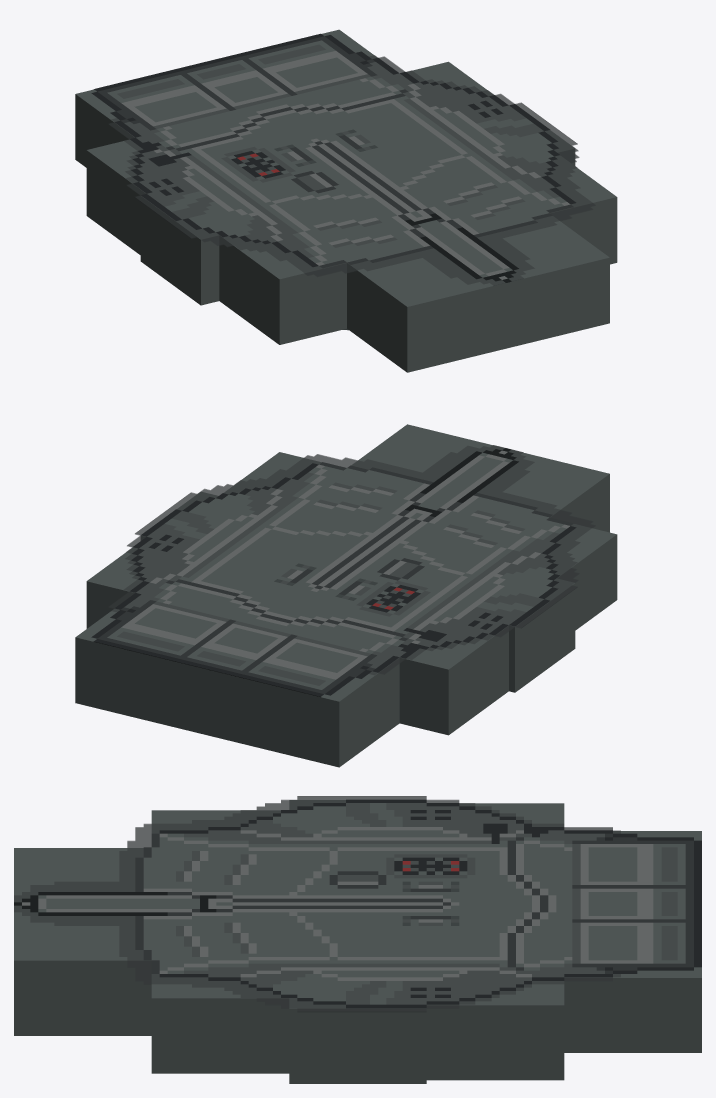
Rendered from CMU3DReduxVehicleTankTurretMounted.glb.
3 renders of one model, top to bottom at view 1: azimuth 30°, elevation 25°; view 2: azimuth 150°, elevation 25°; view 3: azimuth 270°, elevation 25°, orthographic. The views are drawn at different scales.
Parts seen in each view (by area): view 1: turret original finish, turret section (×5); view 2: turret original finish, turret section (×5); view 3: turret original finish, turret section (×5).
Boxes of the visible parts, <box> form: turret original finish: <box>91,33,595,285</box>; turret section (×5): <box>75,29,617,372</box>; turret original finish: <box>91,445,595,696</box>; turret section (×5): <box>75,424,617,767</box>; turret original finish: <box>14,796,701,1012</box>; turret section (×5): <box>14,800,701,1083</box>.
Bounding box in the file's own units: 1.97 × 0.542 × 2.66.
2 materials, 1 textured.
